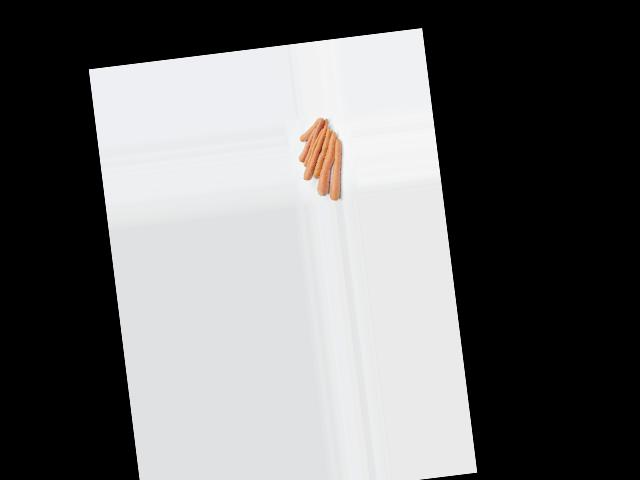carrot: (292, 115, 328, 141)
